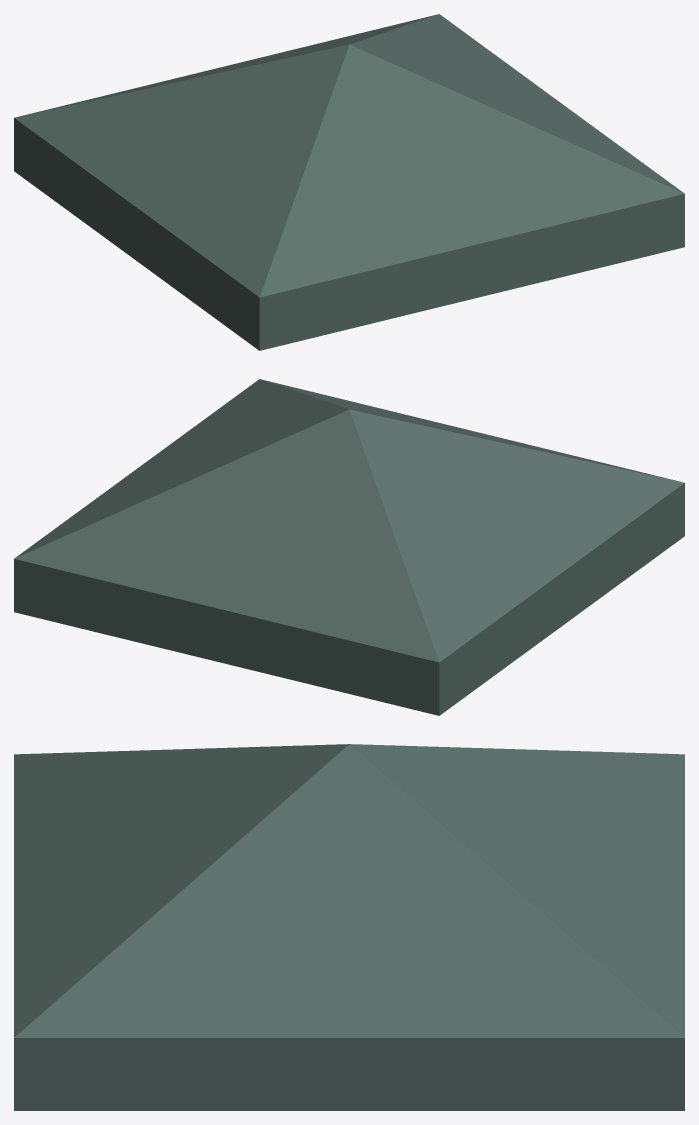
File: building-roof-hipped.glb
The picture shows the model from 3 angles, top to bottom: view 1: azimuth 30°, elevation 25°; view 2: azimuth 150°, elevation 25°; view 3: azimuth 270°, elevation 25°; orthographic projection. The views are drawn at different scales.
Visible parts, largest first — view 1: hipped-roof-cap; view 2: hipped-roof-cap; view 3: hipped-roof-cap.
Boxes of the visible parts, x1,y1,x2,y2 form: hipped-roof-cap: (14,14,684,350); hipped-roof-cap: (14,379,684,715); hipped-roof-cap: (14,744,684,1110).
Size of the model in its own units: 1 by 0.37 by 1.
